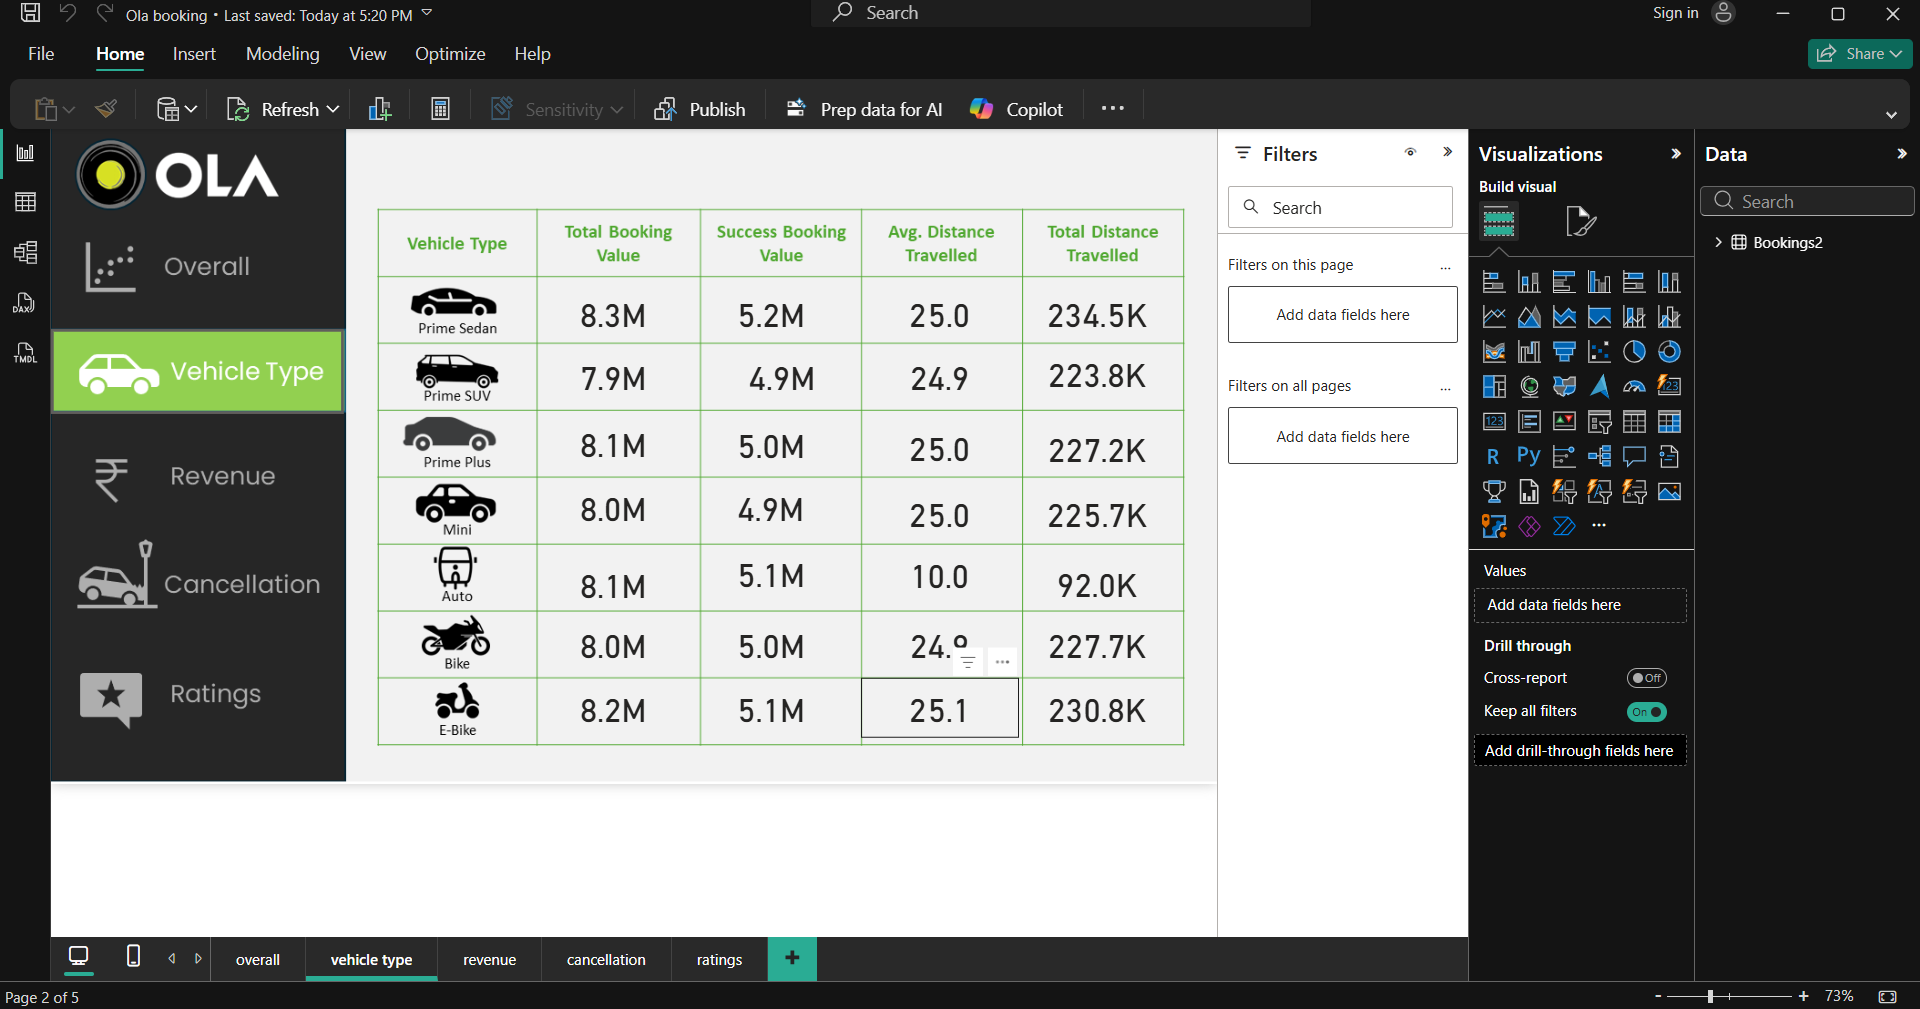

Layout of this report page (visuals, bound fields, positions):
{"tool":"powerbi","page":{"name":"vehicle type","canvas":[1280,720],"ordinal":1},"visuals":[{"type":"actionButton","box":[0,219.6,321.5,93.3],"z":0},{"type":"actionButton","box":[0,454,326.4,92],"z":1000},{"type":"actionButton","box":[0,576.7,326.4,92],"z":2000},{"type":"actionButton","box":[10,586.7,321.5,93.3],"z":3000},{"type":"actionButton","box":[0,223.3,321.5,93.3],"z":4000},{"type":"actionButton","box":[2.5,335,321.2,93.8],"z":5000},{"type":"actionButton","box":[12.5,345,321.2,93.8],"z":6000},{"type":"actionButton","box":[2.5,581.2,318.8,85],"z":7000},{"type":"actionButton","box":[2.5,115,318.8,86.2],"z":8000},{"type":"card","fields":{"Values":["Sum(Bookings2.Booking_Value)"]},"box":[531,168.8,172.9,65.9],"z":9000},{"type":"card","fields":{"Values":["Sum(Bookings2.Booking_Value)"]},"box":[531,237.4,172.9,65.9],"z":10000},{"type":"card","fields":{"Values":["Sum(Bookings2.Booking_Value)"]},"box":[531,311.5,172.9,65.9],"z":11000},{"type":"card","fields":{"Values":["Sum(Bookings2.Booking_Value)"]},"box":[531,381.5,172.9,65.9],"z":12000},{"type":"card","fields":{"Values":["Sum(Bookings2.Booking_Value)"]},"box":[531,466.6,172.9,65.9],"z":13000},{"type":"card","fields":{"Values":["Sum(Bookings2.Booking_Value)"]},"box":[531,532.4,172.9,65.9],"z":14000},{"type":"card","fields":{"Values":["Sum(Bookings2.Booking_Value)"]},"box":[531,602.4,172.9,65.9],"z":15000},{"type":"card","fields":{"Values":["Sum(Bookings2.Booking_Value)"]},"box":[703.9,168.8,172.9,65.9],"z":16000},{"type":"card","fields":{"Values":["Sum(Bookings2.Booking_Value)"]},"box":[716.3,237.4,172.9,65.9],"z":17000},{"type":"card","fields":{"Values":["Sum(Bookings2.Booking_Value)"]},"box":[703.9,312.9,172.9,65.9],"z":18000},{"type":"card","fields":{"Values":["Sum(Bookings2.Booking_Value)"]},"box":[703.9,381.5,172.9,65.9],"z":19000},{"type":"card","fields":{"Values":["Sum(Bookings2.Booking_Value)"]},"box":[703.9,454.2,172.9,65.9],"z":20000},{"type":"card","fields":{"Values":["Sum(Bookings2.Booking_Value)"]},"box":[703.9,532.4,172.9,65.9],"z":21000},{"type":"card","fields":{"Values":["Sum(Bookings2.Booking_Value)"]},"box":[703.9,602.4,172.9,65.9],"z":22000},{"type":"card","fields":{"Values":["Avg(Bookings2.Ride_Distance)"]},"box":[889.2,168.8,172.9,65.9],"z":23000},{"type":"card","fields":{"Values":["Avg(Bookings2.Ride_Distance)"]},"box":[889.2,237.4,172.9,65.9],"z":24000},{"type":"card","fields":{"Values":["Avg(Bookings2.Ride_Distance)"]},"box":[889.2,315.6,172.9,65.9],"z":25000},{"type":"card","fields":{"Values":["Avg(Bookings2.Ride_Distance)"]},"box":[889.2,388.3,172.9,65.9],"z":26000},{"type":"card","fields":{"Values":["Avg(Bookings2.Ride_Distance)"]},"box":[889.2,454.2,172.9,68.6],"z":27000},{"type":"card","fields":{"Values":["Avg(Bookings2.Ride_Distance)"]},"box":[889.2,532.4,172.9,65.9],"z":28000},{"type":"card","fields":{"Values":["Avg(Bookings2.Ride_Distance)"]},"box":[889.2,602.4,172.9,65.9],"z":29000},{"type":"card","fields":{"Values":["Sum(Bookings2.Ride_Distance)"]},"box":[1062.1,168.8,172.9,65.9],"z":30000},{"type":"card","fields":{"Values":["Sum(Bookings2.Ride_Distance)"]},"box":[1062.1,234.6,172.9,65.9],"z":31000},{"type":"card","fields":{"Values":["Sum(Bookings2.Ride_Distance)"]},"box":[1062.1,317,172.9,65.9],"z":32000},{"type":"card","fields":{"Values":["Sum(Bookings2.Ride_Distance)"]},"box":[1062.1,388.3,172.9,65.9],"z":33000},{"type":"card","fields":{"Values":["Sum(Bookings2.Ride_Distance)"]},"box":[1062.1,463.8,172.9,68.6],"z":34000},{"type":"card","fields":{"Values":["Sum(Bookings2.Ride_Distance)"]},"box":[1062.1,532.4,172.9,65.9],"z":35000},{"type":"card","fields":{"Values":["Sum(Bookings2.Ride_Distance)"]},"box":[1062.1,602.4,172.9,65.9],"z":36000}]}

Visuals, with their boxes on the page's 1280x720 design canvas (x1, y1, x2, y2). These are canvas units, not pixel positions in the 1920x1009 screenshot, which may show the page scaled, cropped or inside an application window:
actionButton: bbox=[0, 220, 322, 313]
actionButton: bbox=[0, 454, 326, 546]
actionButton: bbox=[0, 577, 326, 669]
actionButton: bbox=[10, 587, 332, 680]
actionButton: bbox=[0, 223, 322, 317]
actionButton: bbox=[2, 335, 324, 429]
actionButton: bbox=[12, 345, 334, 439]
actionButton: bbox=[2, 581, 321, 666]
actionButton: bbox=[2, 115, 321, 201]
card - Sum(Bookings2.Booking_Value): bbox=[531, 169, 704, 235]
card - Sum(Bookings2.Booking_Value): bbox=[531, 237, 704, 303]
card - Sum(Bookings2.Booking_Value): bbox=[531, 312, 704, 377]
card - Sum(Bookings2.Booking_Value): bbox=[531, 382, 704, 447]
card - Sum(Bookings2.Booking_Value): bbox=[531, 467, 704, 532]
card - Sum(Bookings2.Booking_Value): bbox=[531, 532, 704, 598]
card - Sum(Bookings2.Booking_Value): bbox=[531, 602, 704, 668]
card - Sum(Bookings2.Booking_Value): bbox=[704, 169, 877, 235]
card - Sum(Bookings2.Booking_Value): bbox=[716, 237, 889, 303]
card - Sum(Bookings2.Booking_Value): bbox=[704, 313, 877, 379]
card - Sum(Bookings2.Booking_Value): bbox=[704, 382, 877, 447]
card - Sum(Bookings2.Booking_Value): bbox=[704, 454, 877, 520]
card - Sum(Bookings2.Booking_Value): bbox=[704, 532, 877, 598]
card - Sum(Bookings2.Booking_Value): bbox=[704, 602, 877, 668]
card - Avg(Bookings2.Ride_Distance): bbox=[889, 169, 1062, 235]
card - Avg(Bookings2.Ride_Distance): bbox=[889, 237, 1062, 303]
card - Avg(Bookings2.Ride_Distance): bbox=[889, 316, 1062, 382]
card - Avg(Bookings2.Ride_Distance): bbox=[889, 388, 1062, 454]
card - Avg(Bookings2.Ride_Distance): bbox=[889, 454, 1062, 523]
card - Avg(Bookings2.Ride_Distance): bbox=[889, 532, 1062, 598]
card - Avg(Bookings2.Ride_Distance): bbox=[889, 602, 1062, 668]
card - Sum(Bookings2.Ride_Distance): bbox=[1062, 169, 1235, 235]
card - Sum(Bookings2.Ride_Distance): bbox=[1062, 235, 1235, 300]
card - Sum(Bookings2.Ride_Distance): bbox=[1062, 317, 1235, 383]
card - Sum(Bookings2.Ride_Distance): bbox=[1062, 388, 1235, 454]
card - Sum(Bookings2.Ride_Distance): bbox=[1062, 464, 1235, 532]
card - Sum(Bookings2.Ride_Distance): bbox=[1062, 532, 1235, 598]
card - Sum(Bookings2.Ride_Distance): bbox=[1062, 602, 1235, 668]
